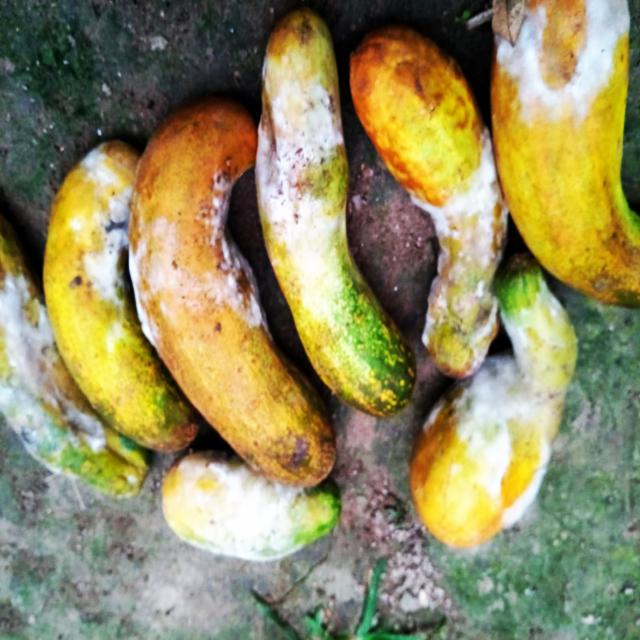Pythium-Fruit-Rot: (451, 287, 568, 531), (129, 160, 273, 345), (404, 129, 511, 368), (0, 259, 109, 484), (493, 0, 634, 118), (254, 78, 346, 241), (183, 452, 311, 565), (67, 139, 139, 326)
